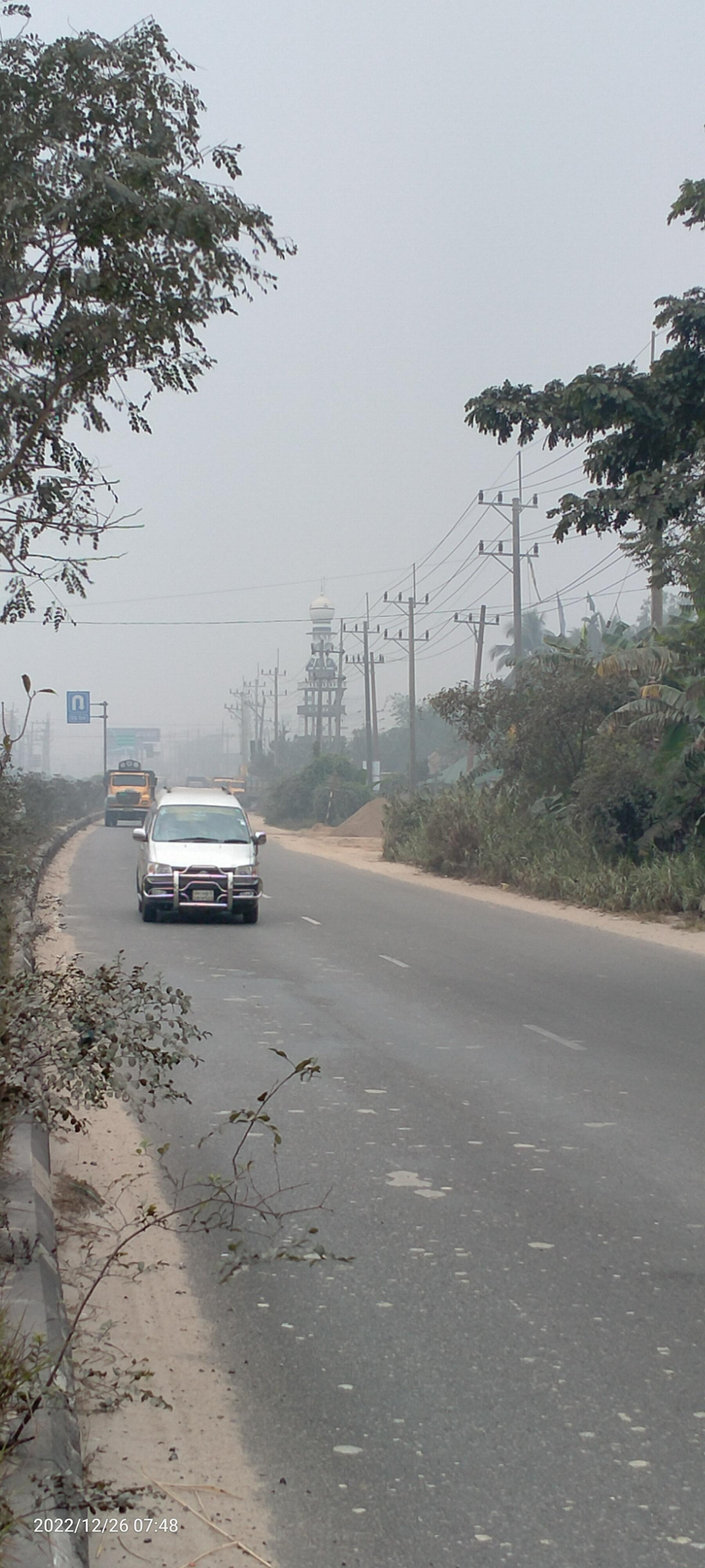Car: (129, 777, 279, 937)
Truck: (101, 750, 155, 833)
